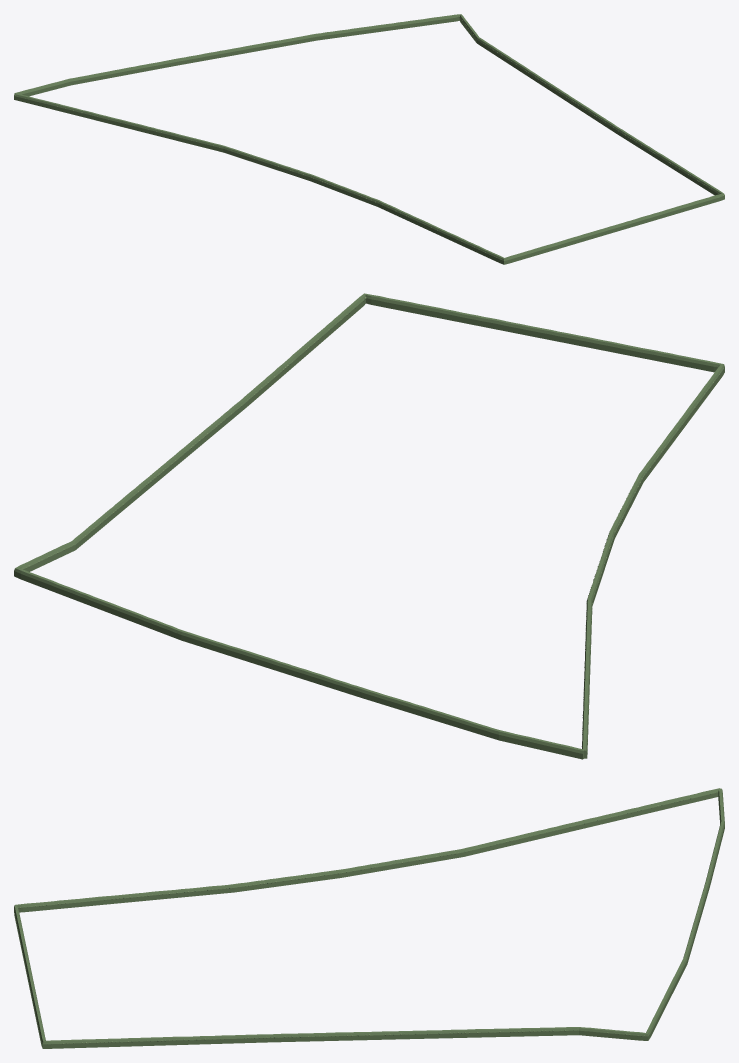
The picture shows the model from 3 angles, top to bottom: view 1: azimuth 30°, elevation 25°; view 2: azimuth 150°, elevation 25°; view 3: azimuth 270°, elevation 25°; orthographic projection. The views are drawn at different scales.
Visible parts, largest first — view 1: Hedge body; view 2: Hedge body; view 3: Hedge body, Hedge foliage.
Boxes of the visible parts, box(x1,y1,x2,y2) form: Hedge body: box(14, 14, 724, 264); Hedge body: box(14, 293, 724, 759); Hedge body: box(14, 788, 724, 1048); Hedge foliage: box(14, 792, 716, 1044).
Bounding box in the file's own units: 125 × 1.58 × 148.
